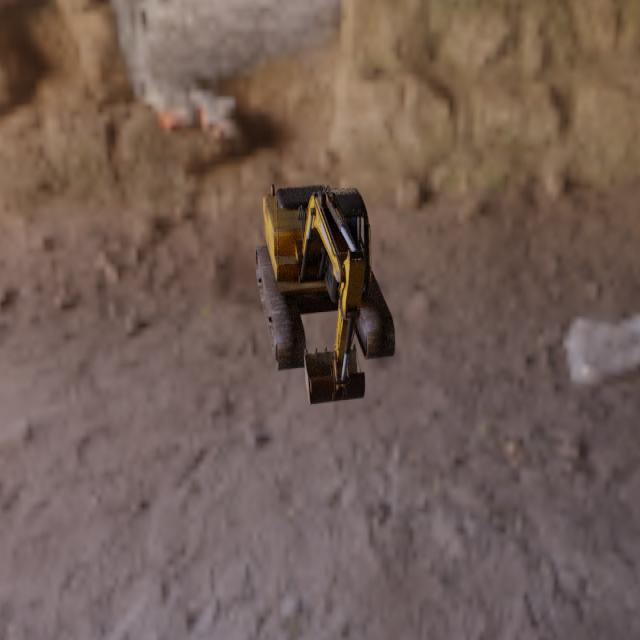excavator: (254, 183, 395, 404)
